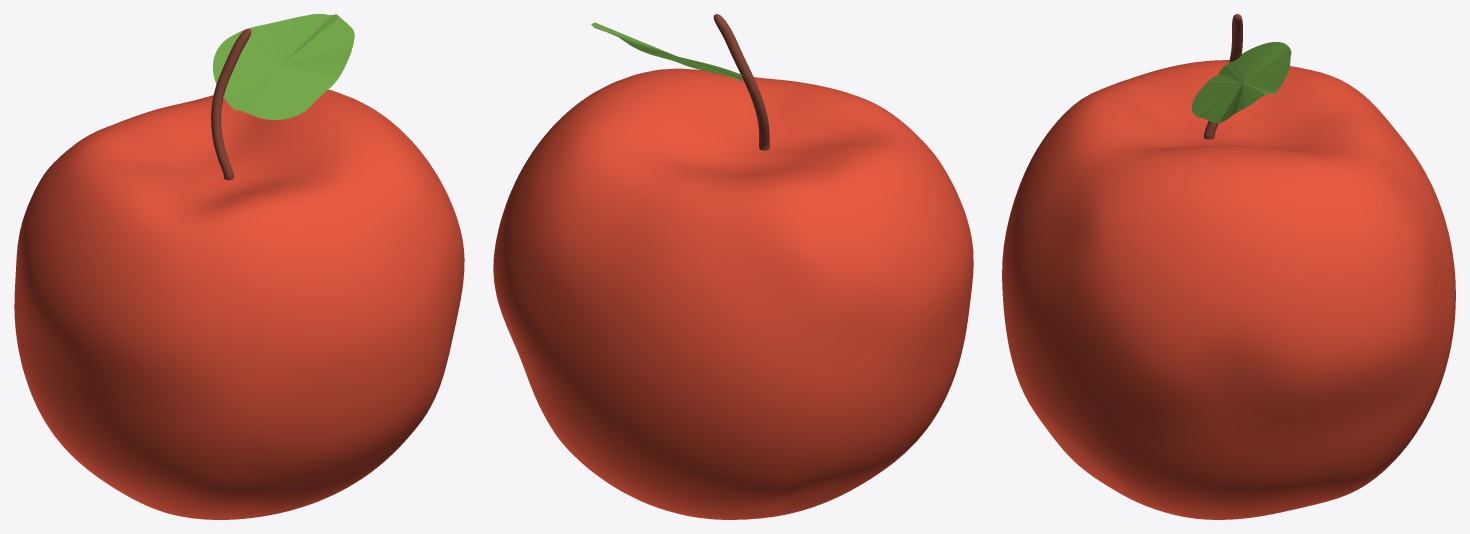
File: apple.fbx
3 renders of one model, left to right at view 1: azimuth 30°, elevation 25°; view 2: azimuth 150°, elevation 25°; view 3: azimuth 270°, elevation 25°, orthographic. The views are drawn at different scales.
Parts seen in each view (by area): view 1: Cube; view 2: Cube; view 3: Cube.
Part boxes in pixels (bbox=[...]): Cube: bbox=[14, 14, 464, 519]; Cube: bbox=[493, 14, 973, 519]; Cube: bbox=[1002, 14, 1455, 519].
Bounding box in the file's own units: 22.71 × 25.55 × 21.36.
